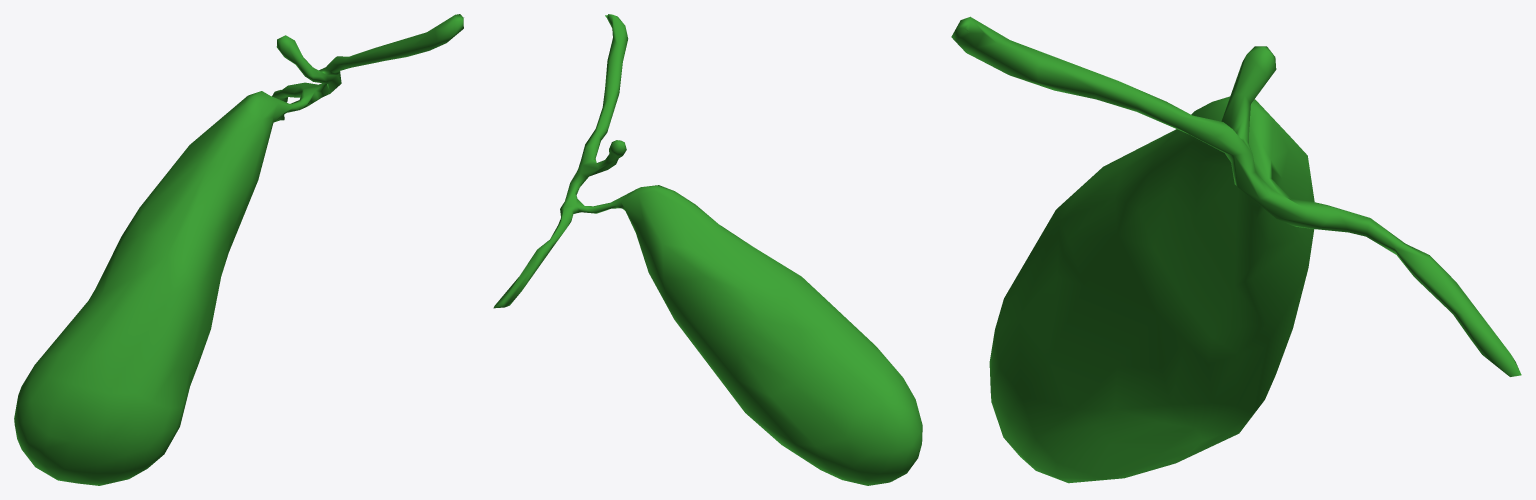
Rendered from gallbladder.glb.
3 renders of one model, left to right at view 1: azimuth 30°, elevation 25°; view 2: azimuth 150°, elevation 25°; view 3: azimuth 270°, elevation 25°, orthographic. The views are drawn at different scales.
Parts seen in each view (by area): view 1: Gallbladder_Galblaas; view 2: Gallbladder_Galblaas; view 3: Gallbladder_Galblaas.
Part boxes in pixels (<box>): Gallbladder_Galblaas: <box>14,14,463,485</box>; Gallbladder_Galblaas: <box>493,14,922,485</box>; Gallbladder_Galblaas: <box>951,16,1521,483</box>.
Size of the model in its own units: 7.78e-09 by 7.72e-09 by 5.42e-09.
